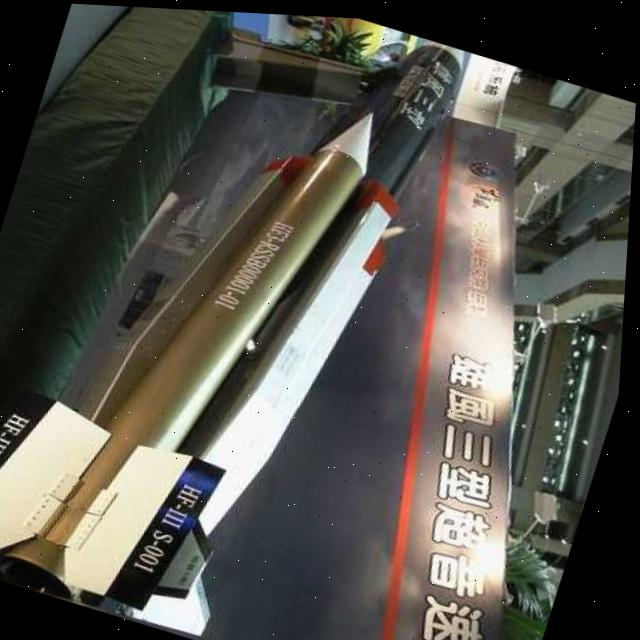missile: (0, 15, 390, 630)
